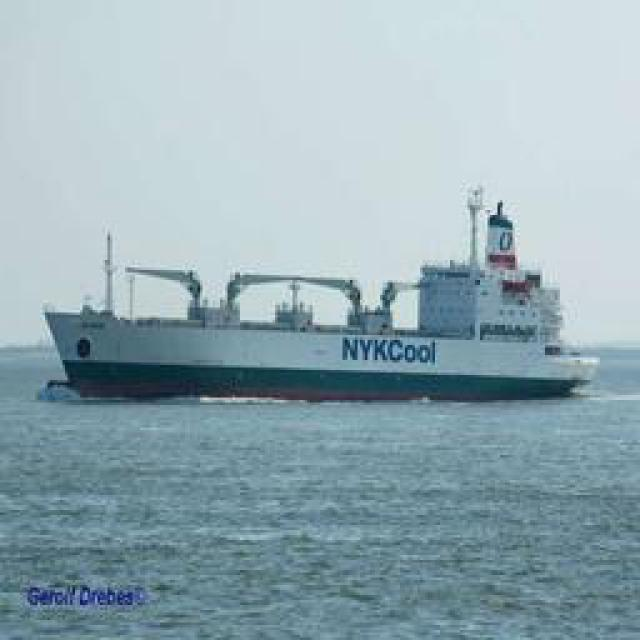Ship: (47, 195, 605, 403)
